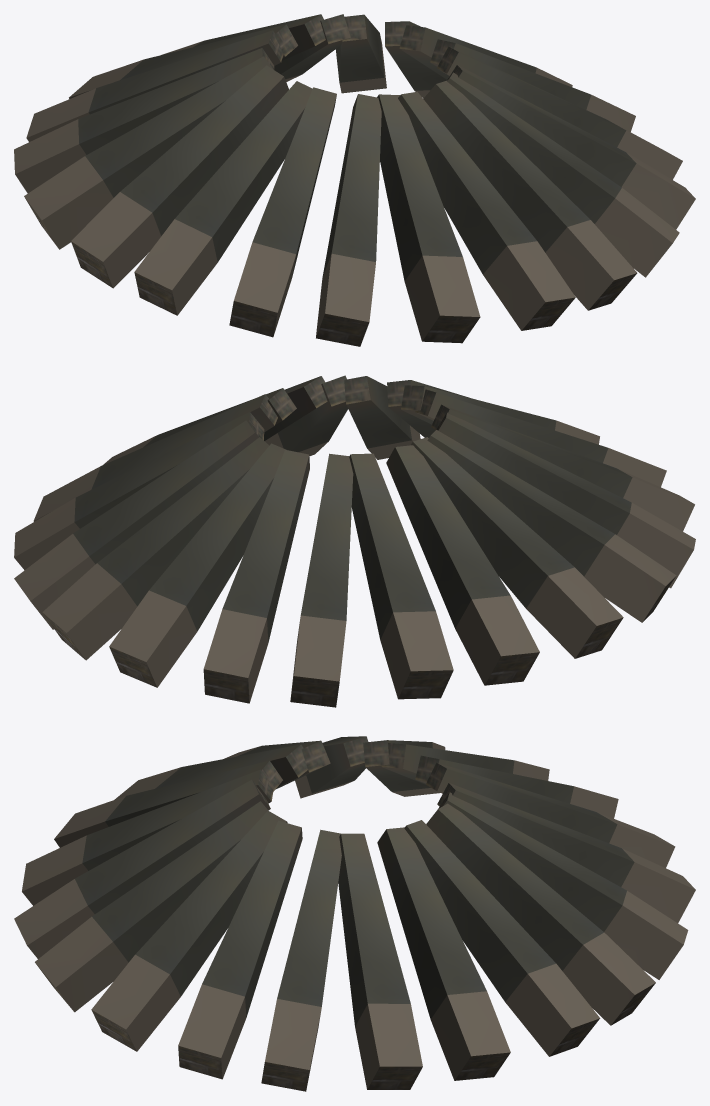
File: Campfire.glb
The picture shows the model from 3 angles, top to bottom: view 1: azimuth 30°, elevation 25°; view 2: azimuth 150°, elevation 25°; view 3: azimuth 270°, elevation 25°; orthographic projection.
Parts seen in each view (by area): view 1: Campfire; view 2: Campfire; view 3: Campfire.
Boxes of the visible parts, x1,y1,x2,y2 form: Campfire: [14, 14, 695, 346]; Campfire: [14, 375, 695, 707]; Campfire: [14, 736, 695, 1091].
Bounding box in the file's own units: 2.95 × 0.8931 × 2.95.
1 material, 1 textured.
